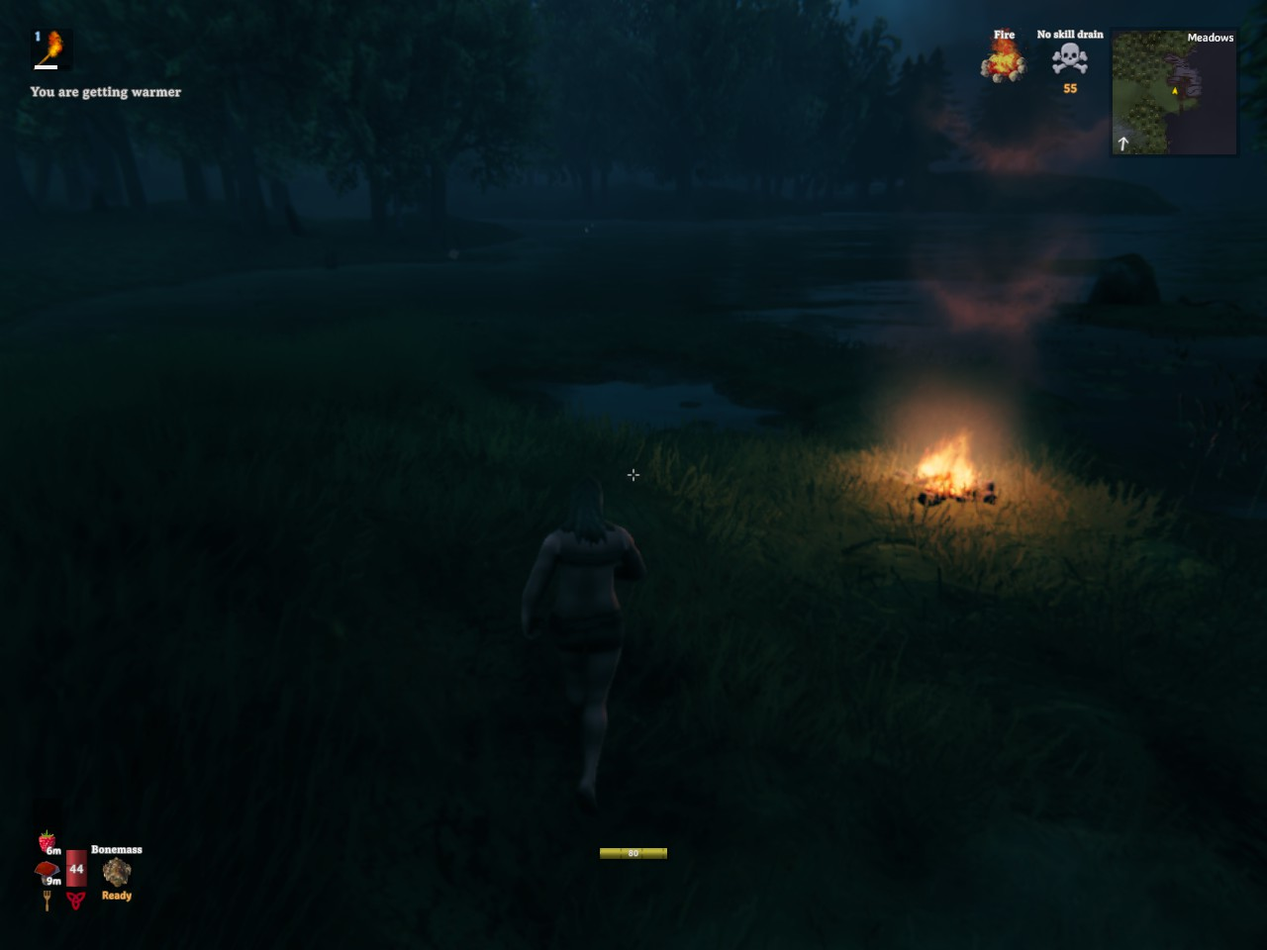Fire: (872, 427, 1005, 521)
